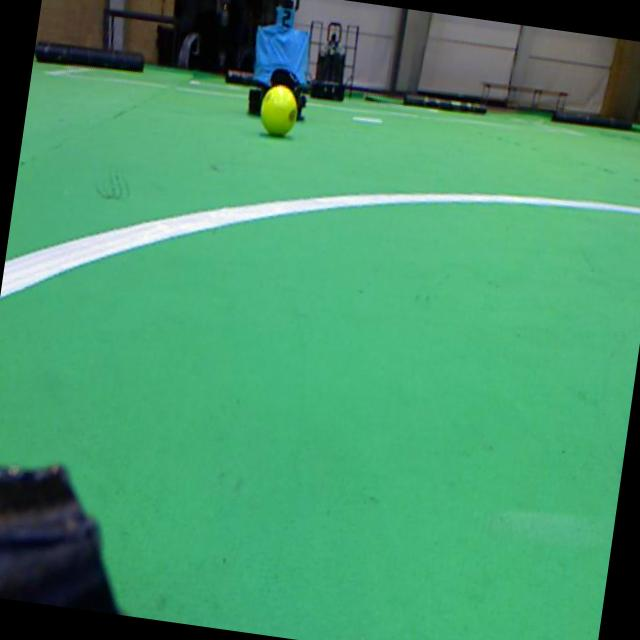ball: (261, 85, 297, 135)
robot: (310, 23, 345, 100)
